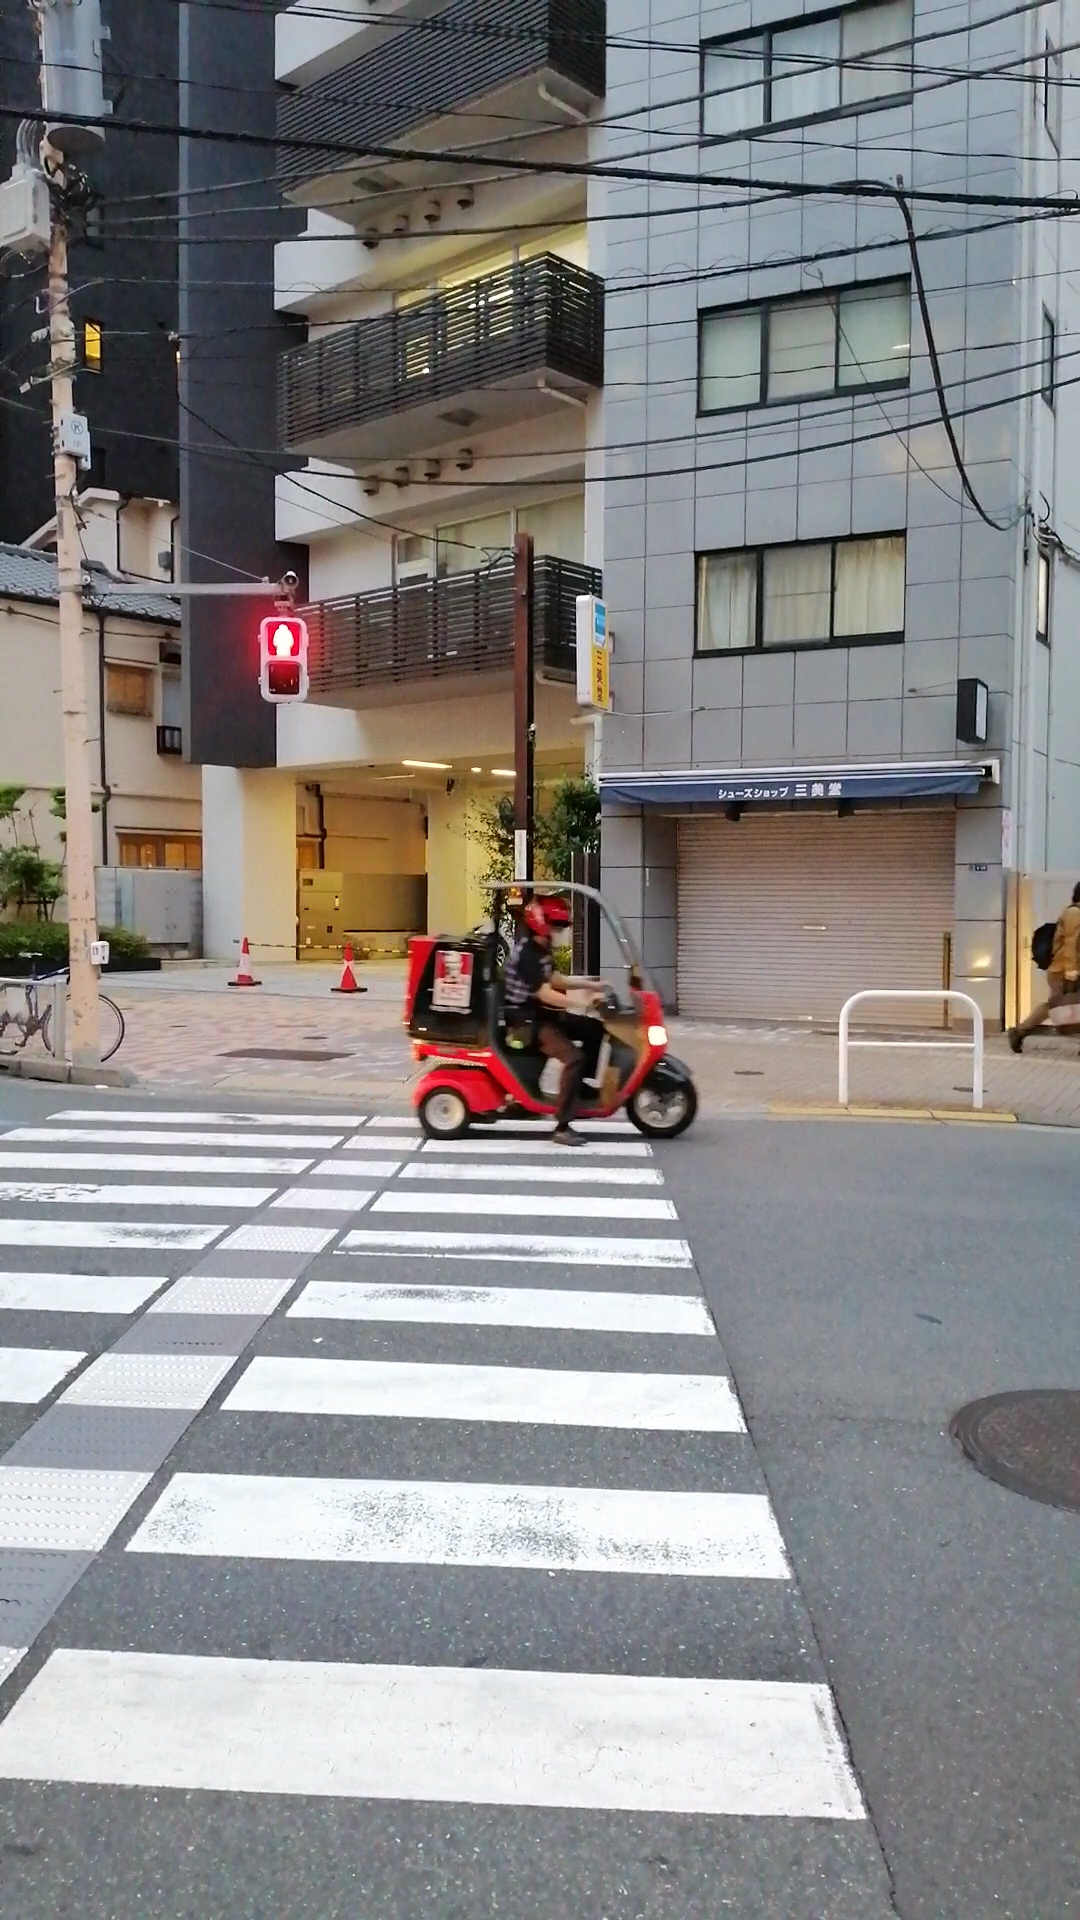red: (258, 615, 307, 700)
